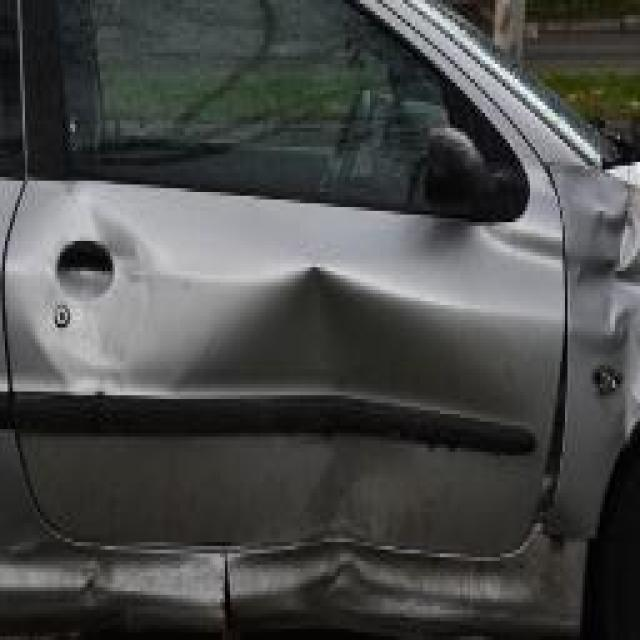Door: (8, 169, 568, 621)
Fender: (568, 169, 640, 433)
